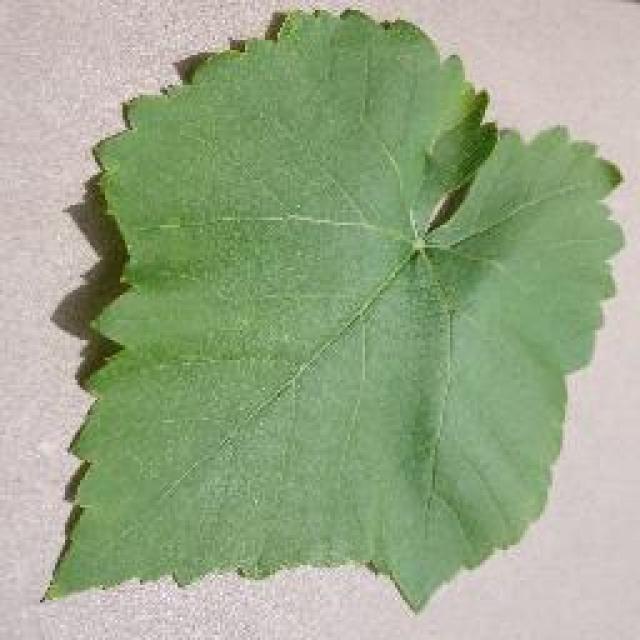Grape___healthy: (39, 2, 630, 618)
